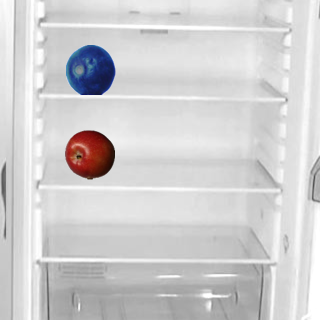Apple Braeburn: (64, 129, 114, 179)
Huckleberry: (65, 44, 115, 94)
